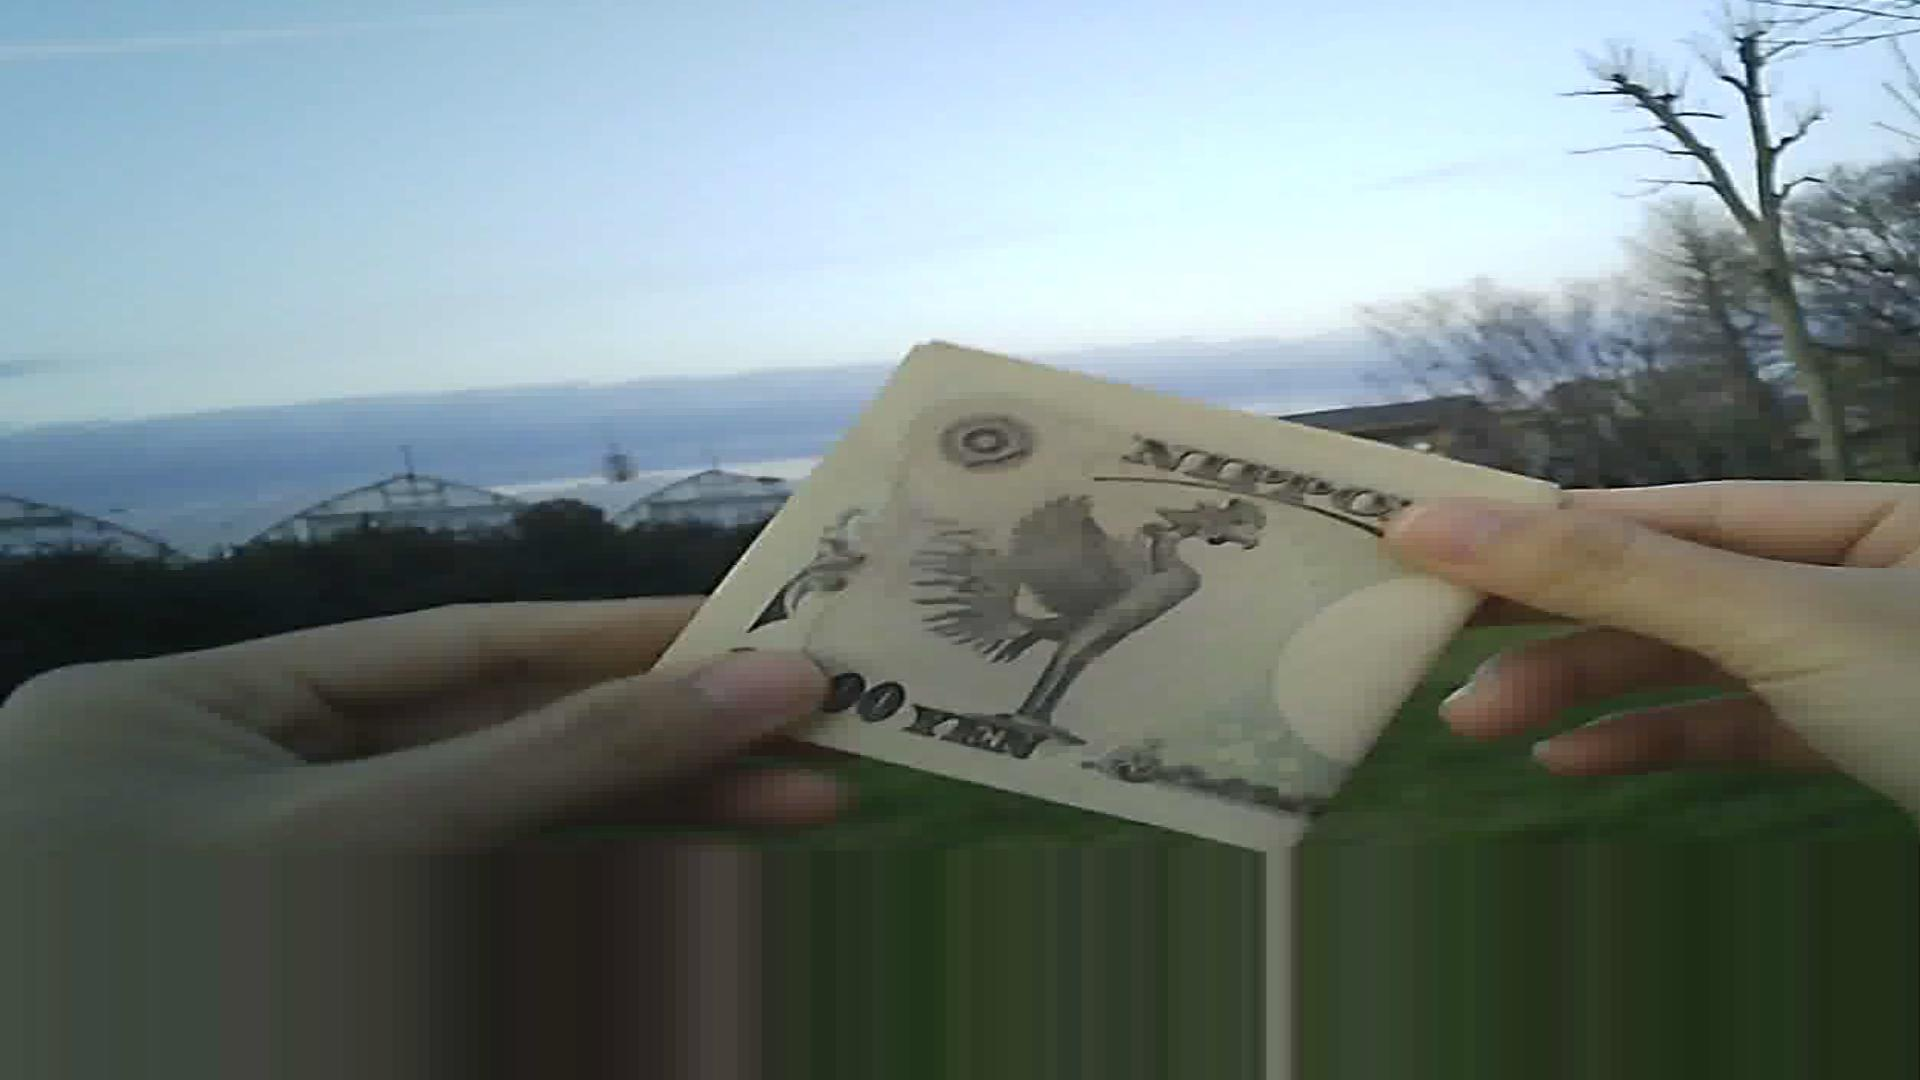10,000 Yen: (675, 342, 1510, 844)
